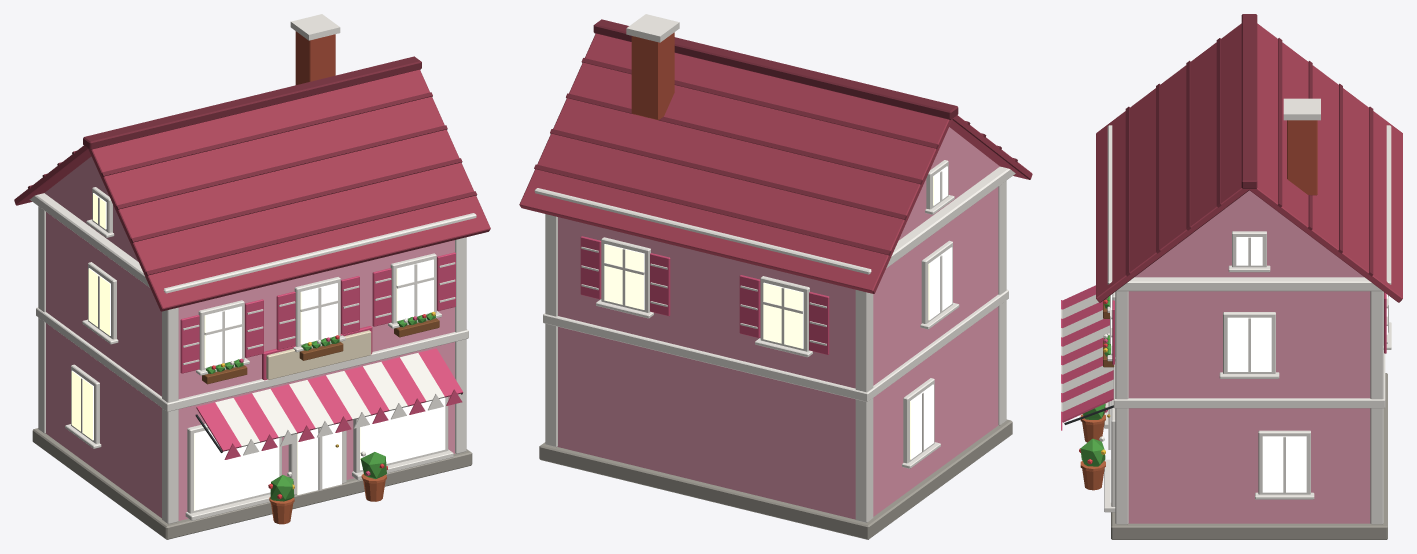
Rendered from harbor_house_boutique_v01.glb.
3 views of the same model, side by side, from view 1: azimuth 30°, elevation 25°; view 2: azimuth 150°, elevation 25°; view 3: azimuth 270°, elevation 25° (orthographic). The views are drawn at different scales.
Visible parts, largest first — view 1: house_boutique; view 2: house_boutique; view 3: house_boutique.
Boxes of the visible parts, x1,y1,x2,y2 form: house_boutique: [14, 14, 490, 539]; house_boutique: [519, 14, 1032, 539]; house_boutique: [1061, 14, 1402, 539].
Size of the model in its own units: 9 by 10.07 by 7.77.
